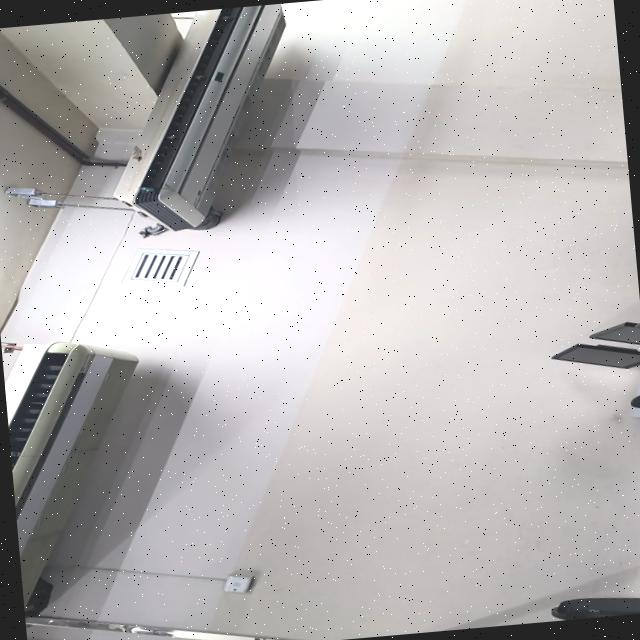Ac: (114, 2, 284, 236), (4, 340, 137, 612)
Chair: (551, 596, 640, 619)
Monitor: (551, 343, 640, 367), (589, 321, 640, 343)
Mouse: (630, 393, 640, 407)
